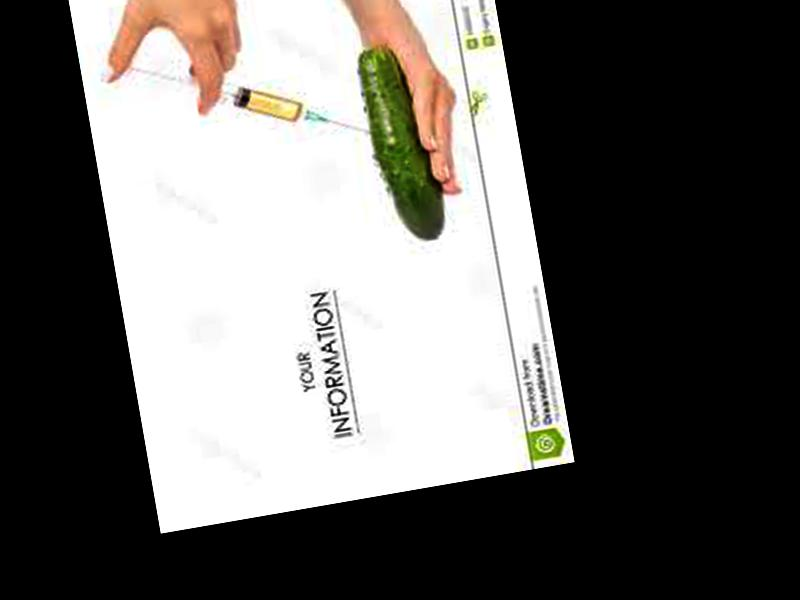Cucumber: (356, 40, 448, 247)
